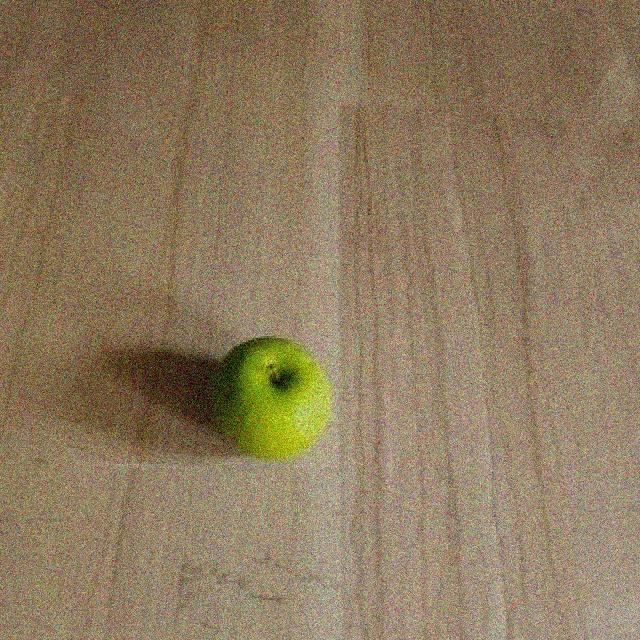green apple: (210, 330, 333, 456)
